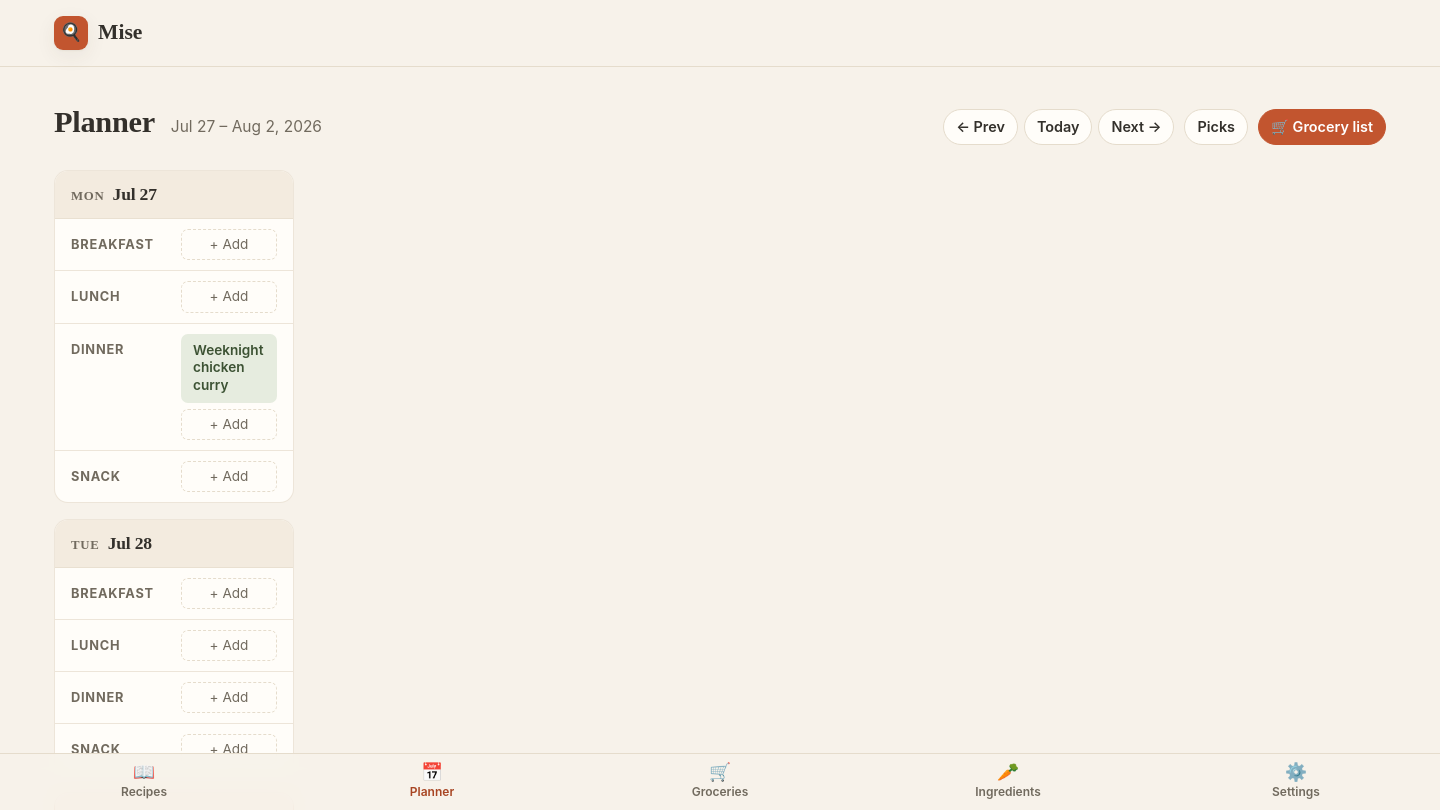
Scenario: PlannerPage › below the width the week grid needs › scrolls to today once the week's meals are in, and not on a reload
The width and height of the screenshot is (1440, 810).
Check: the text "Jul 27 – Aug 2, 2026" is shown, box [171, 115, 322, 139]
Check: the element showing "Weeknight chicken curry" is shown, box [181, 334, 277, 402]
# A failed servings write asks for the same week again.
Click the button "Weeknight chicken curry" at (229, 368), box [193, 342, 265, 394]
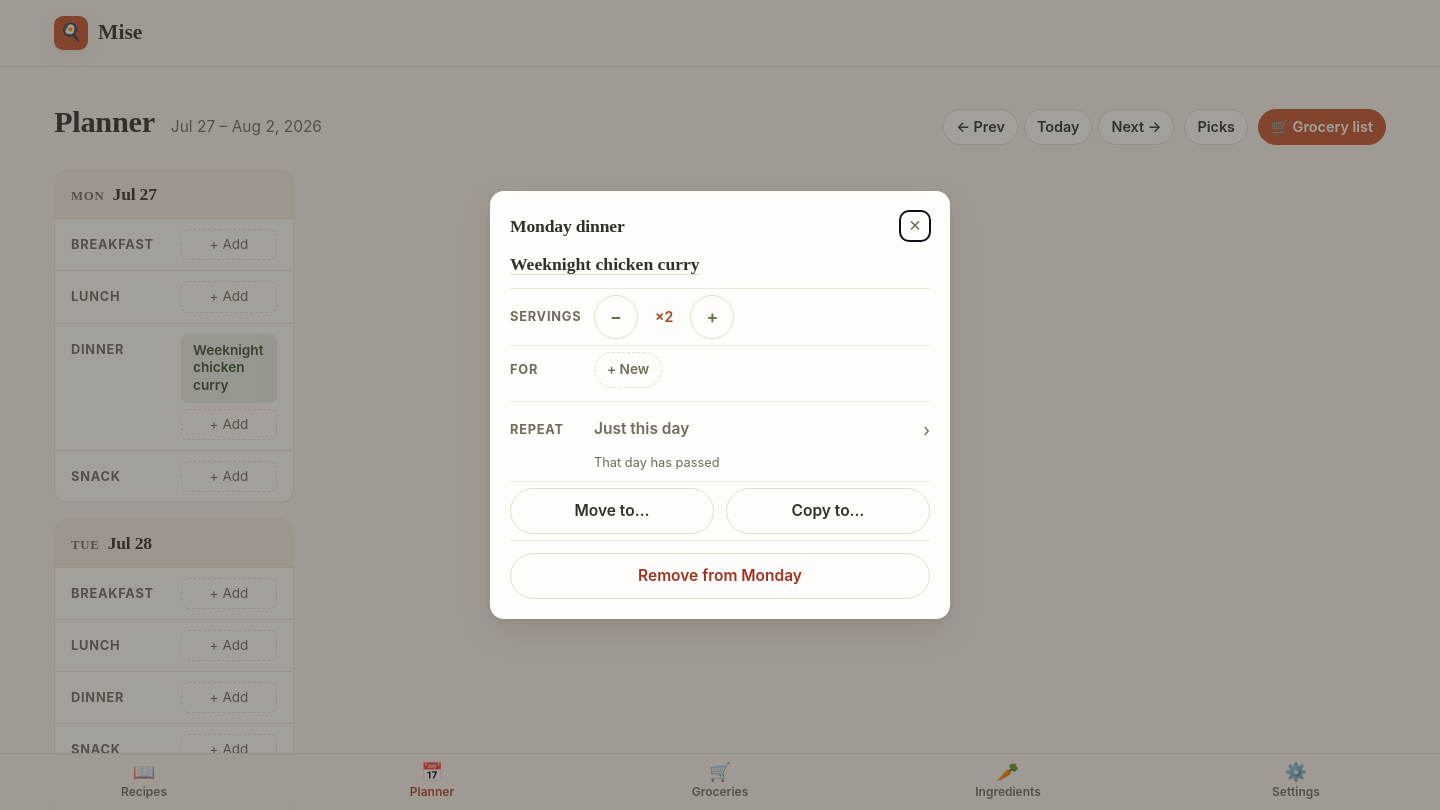
Click the button named "More servings" at (712, 317), box [690, 295, 734, 339]
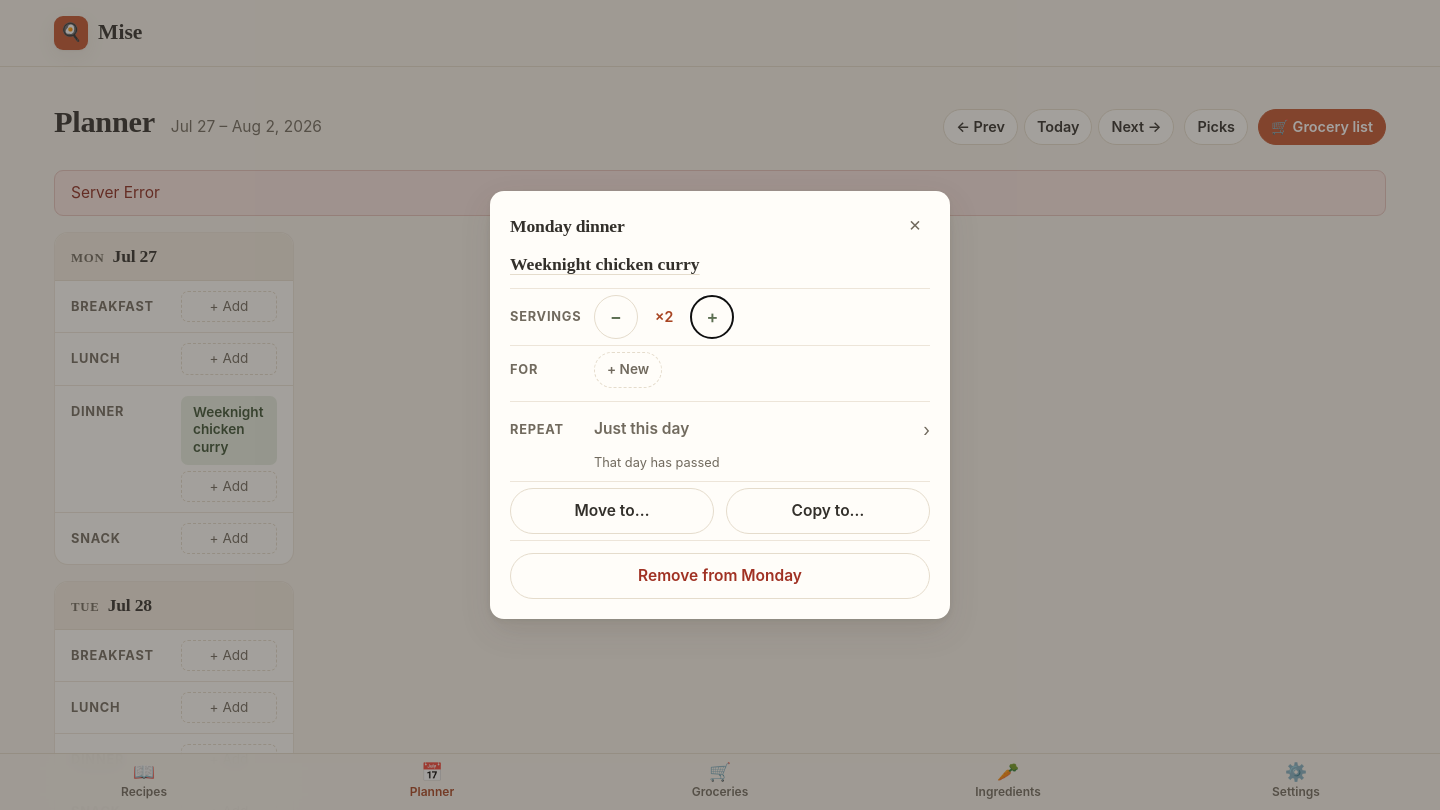
Check: the text "Server Error" is shown, box [54, 170, 1386, 216]
